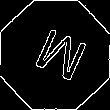M_SW: (24, 23, 86, 87)
